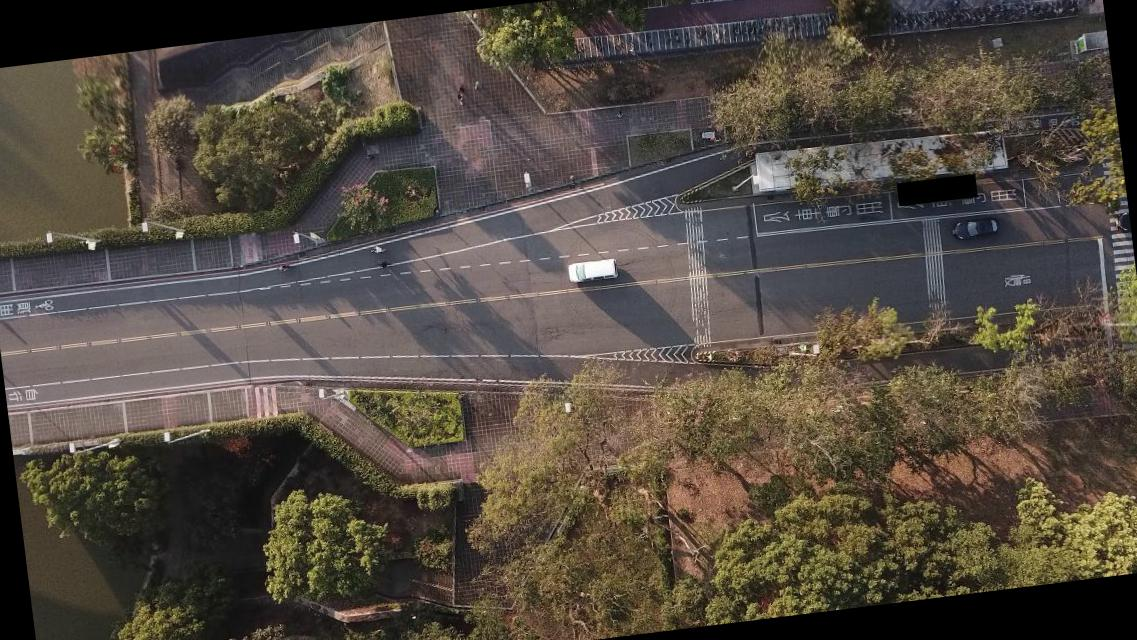vehicle: (565, 257, 618, 287), (950, 216, 998, 242), (1113, 212, 1129, 232)
